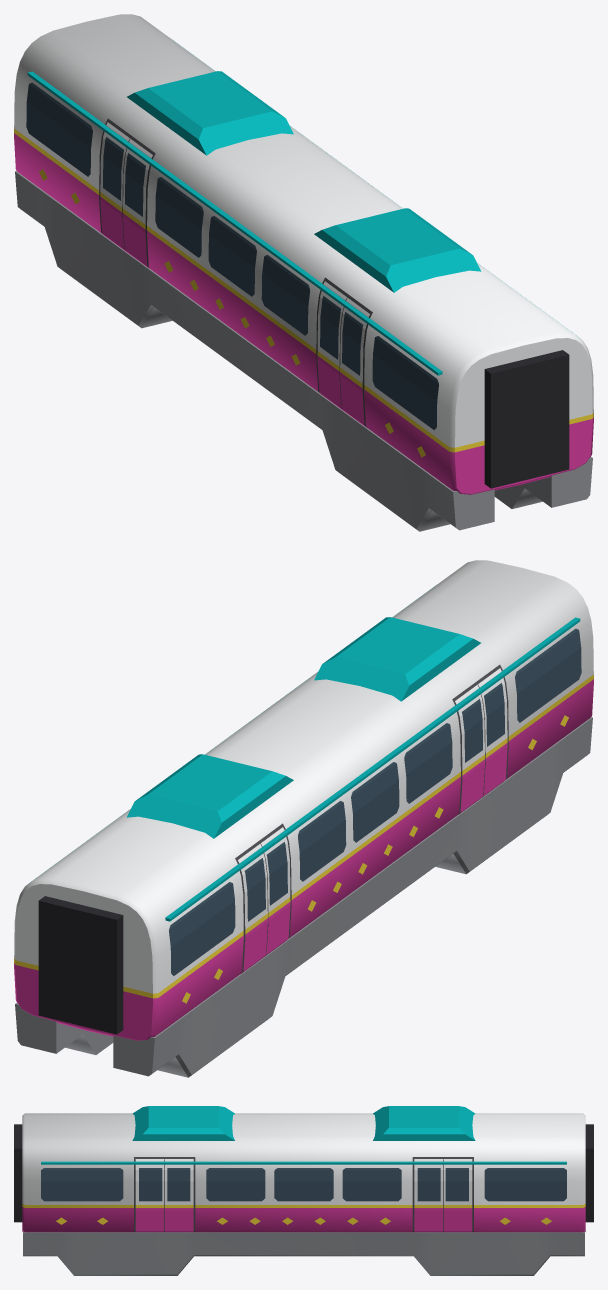
File: middle_4.fbx
3 views of the same model, one above another, from view 1: azimuth 30°, elevation 25°; view 2: azimuth 150°, elevation 25°; view 3: azimuth 270°, elevation 25° (orthographic). The views are drawn at different scales.
Parts seen in each view (by area): view 1: 24_middle_4; view 2: 24_middle_4; view 3: 24_middle_4.
Part boxes in pixels (x1=…): 24_middle_4: x1=14, y1=14, x2=593, y2=531; 24_middle_4: x1=14, y1=560, x2=593, y2=1077; 24_middle_4: x1=14, y1=1106, x2=593, y2=1275.
Bounding box in the file's own units: 2.6 × 3.7 × 14.
